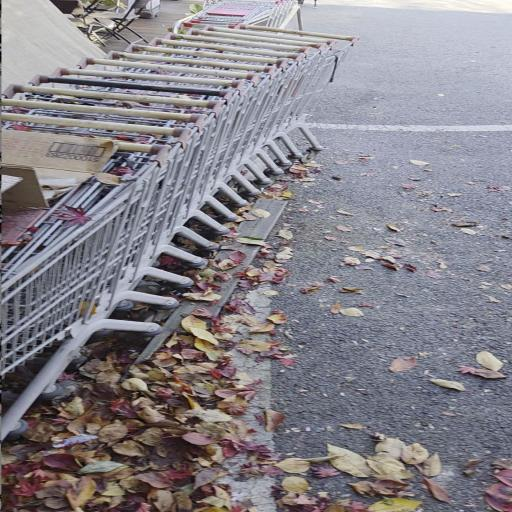combined_cart: (171, 0, 309, 38)
